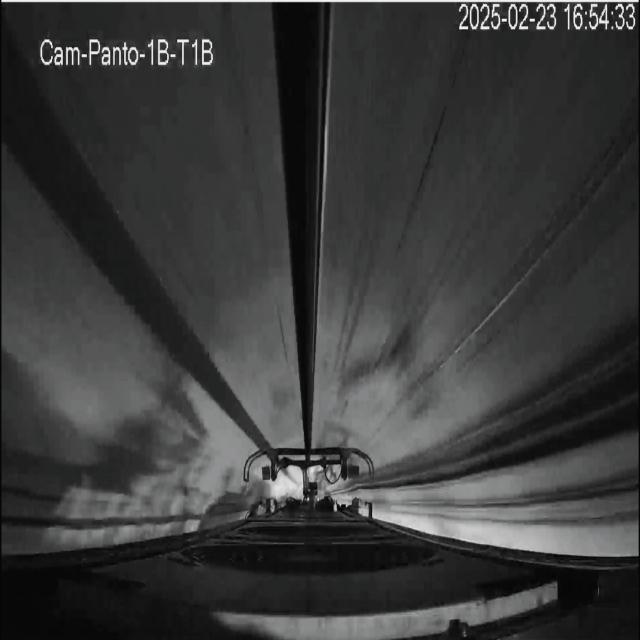Camera Stamp: (35, 28, 218, 70)
Date Stamp: (459, 3, 637, 33)
No - Spark: (242, 444, 375, 508)
